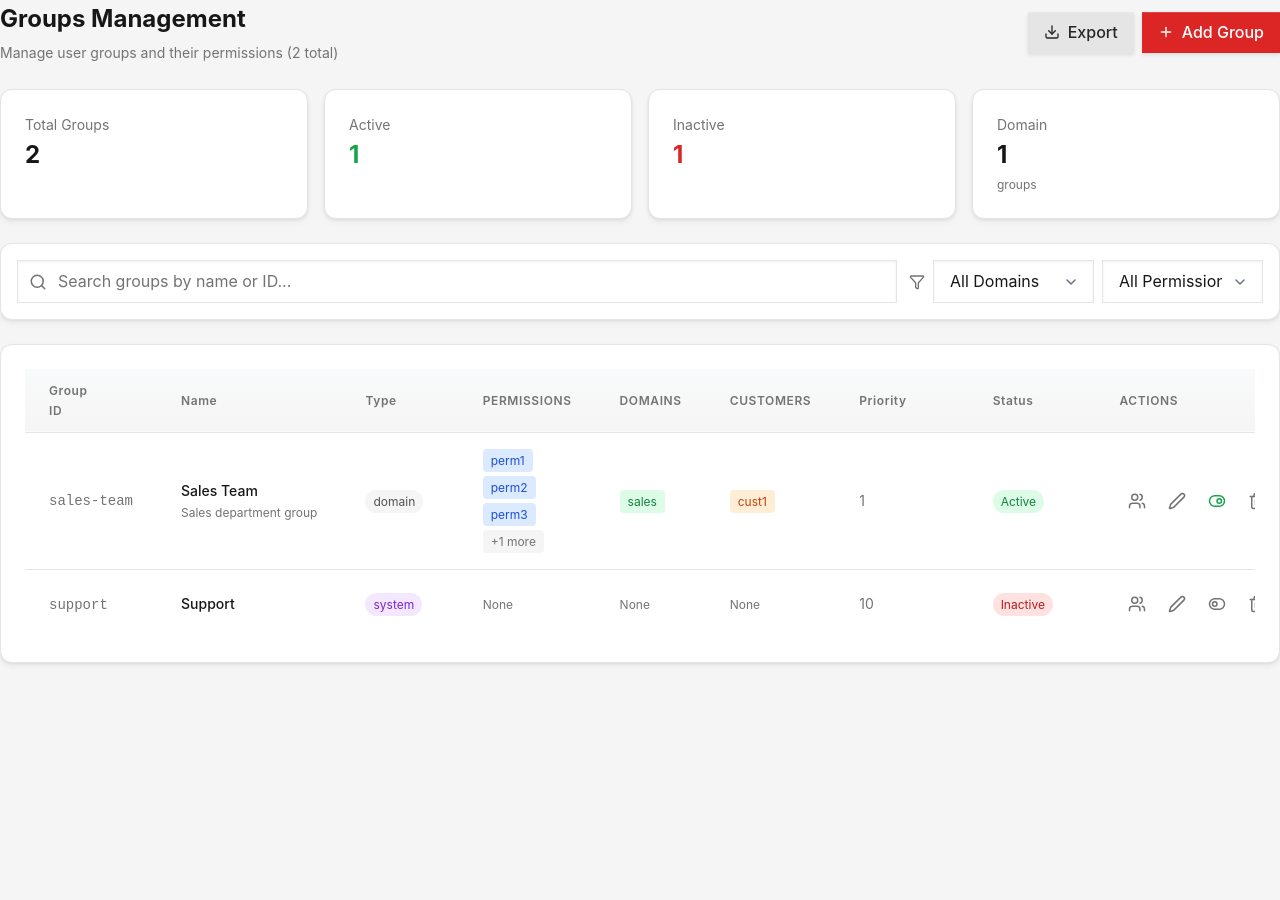
it: GroupsManagement › opens edit modal with pre-populated data
This screenshot has width=1280, height=900.
Check: the text "Sales Team" is shown, box [181, 482, 258, 499]
Click the button titled "Edit" in the row of "sales-team" at (1177, 501), box [1159, 483, 1195, 519]
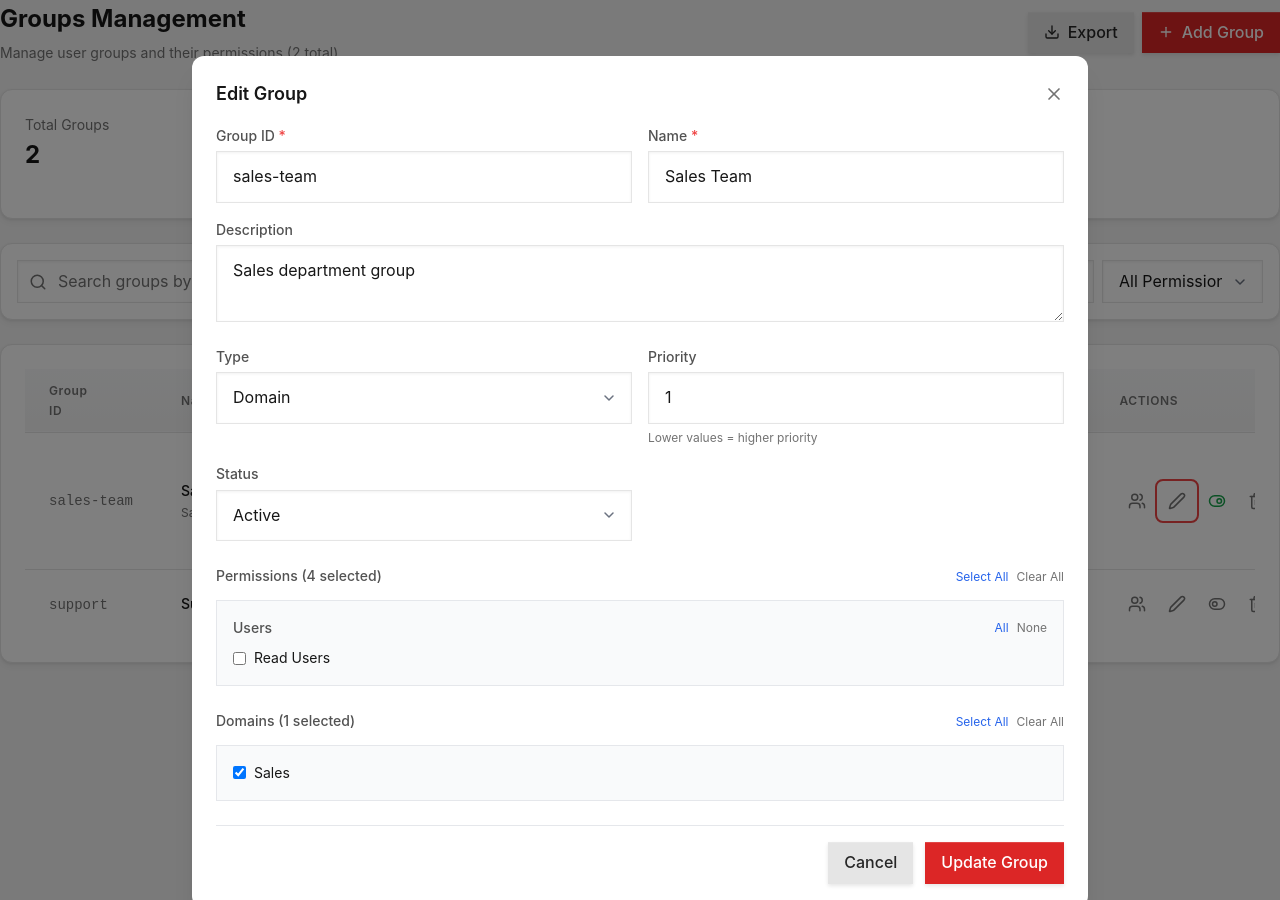
Check: the heading "Edit Group" is shown, box [216, 80, 307, 109]
Check: the 1st field showing "sales-team" is shown, box [216, 151, 632, 203]
Check: the 2nd field showing "Sales Team" is shown, box [648, 151, 1064, 203]
